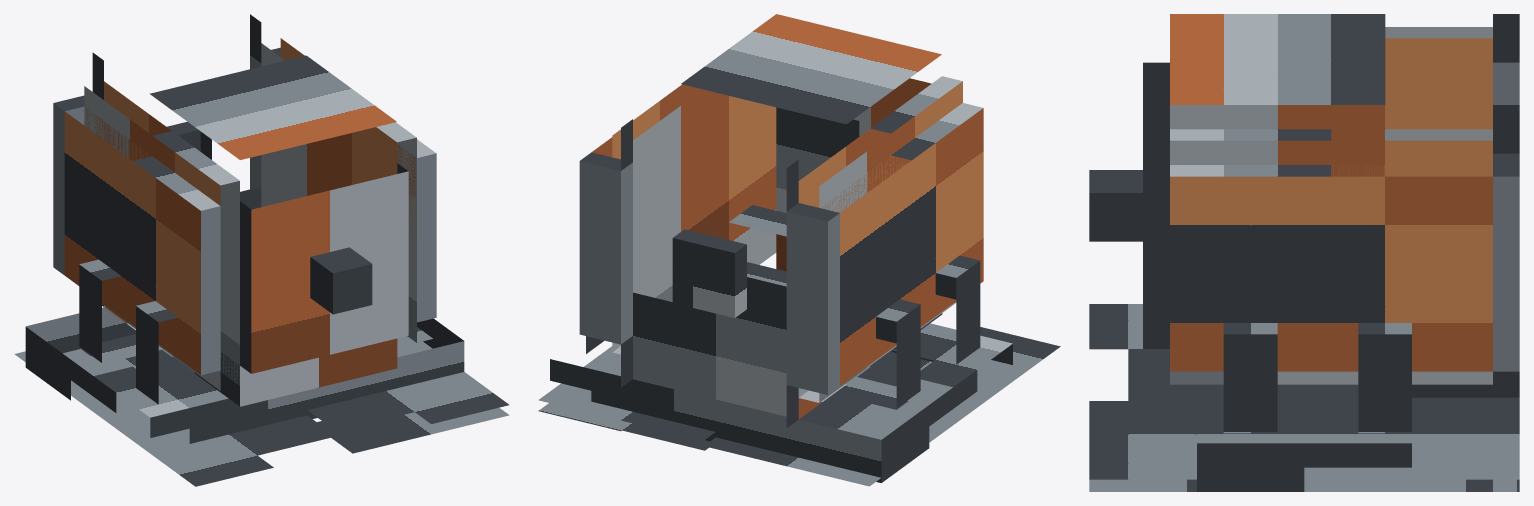
File: motor.obj
3 renders of one model, left to right at view 1: azimuth 30°, elevation 25°; view 2: azimuth 150°, elevation 25°; view 3: azimuth 270°, elevation 25°, orthographic. The views are drawn at different scales.
Visible parts, largest first — view 1: Motor, RecessedBacking; view 2: Motor, RecessedBacking; view 3: Motor, RecessedBacking.
Part boxes in pixels (x1,y1,x2,y2): Motor: [25, 14, 509, 453]; RecessedBacking: [14, 341, 508, 486]; Motor: [538, 14, 1012, 482]; RecessedBacking: [538, 327, 1060, 486]; Motor: [1089, 14, 1519, 491]; RecessedBacking: [1089, 304, 1519, 479].
Size of the model in its own units: 1 by 0.875 by 1.
